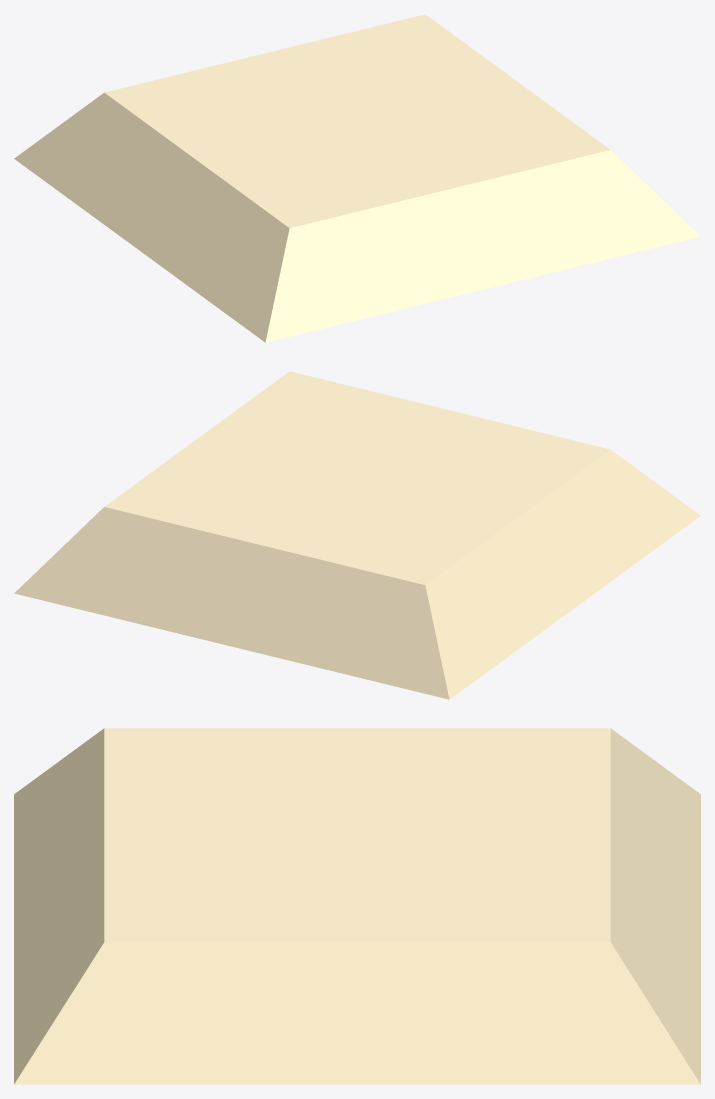
File: giza-khufu-b60.glb
The picture shows the model from 3 angles, top to bottom: view 1: azimuth 30°, elevation 25°; view 2: azimuth 150°, elevation 25°; view 3: azimuth 270°, elevation 25°; orthographic projection. The views are drawn at different scales.
Bounding box in the file's own units: 230 × 38.59 × 230.
